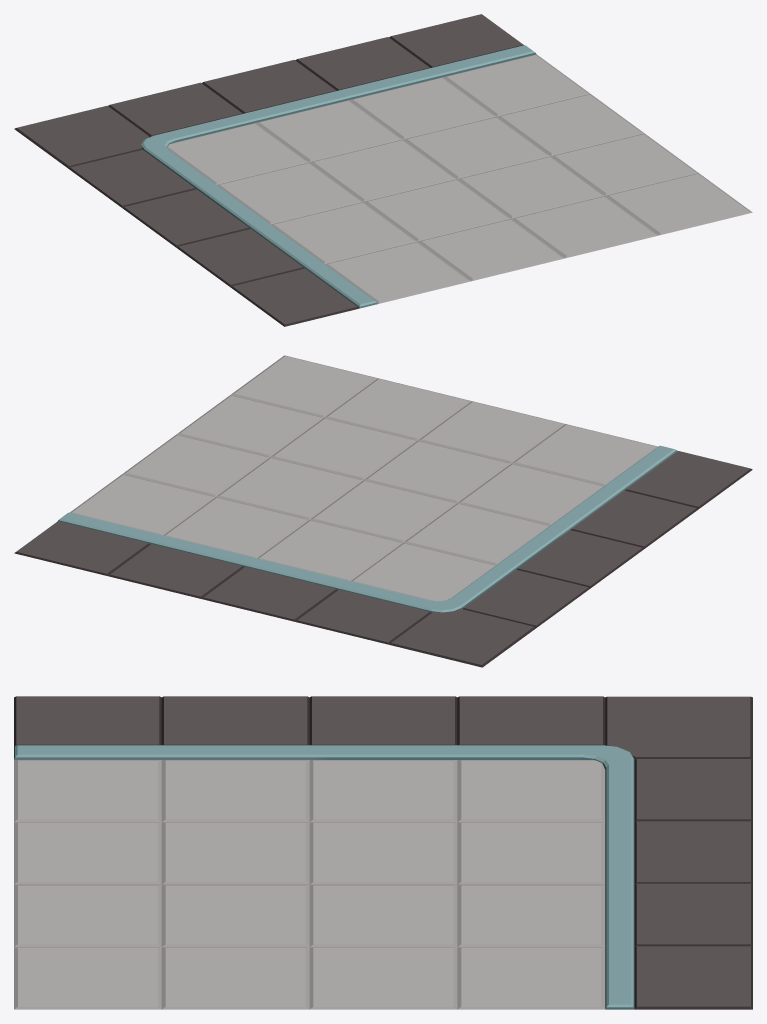
Rendered from OpenCorner_0.glb.
The picture shows the model from 3 angles, top to bottom: view 1: azimuth 30°, elevation 25°; view 2: azimuth 150°, elevation 25°; view 3: azimuth 270°, elevation 25°; orthographic projection. The views are drawn at different scales.
Parts seen in each view (by area): view 1: OpenCorner_0; view 2: OpenCorner_0; view 3: OpenCorner_0.
Boxes of the visible parts, x1,y1,x2,y2 form: OpenCorner_0: (14, 14, 752, 326); OpenCorner_0: (14, 355, 752, 667); OpenCorner_0: (14, 696, 752, 1009).
Size of the model in its own units: 16 by 0.0884 by 16.
1 material, 1 textured.
